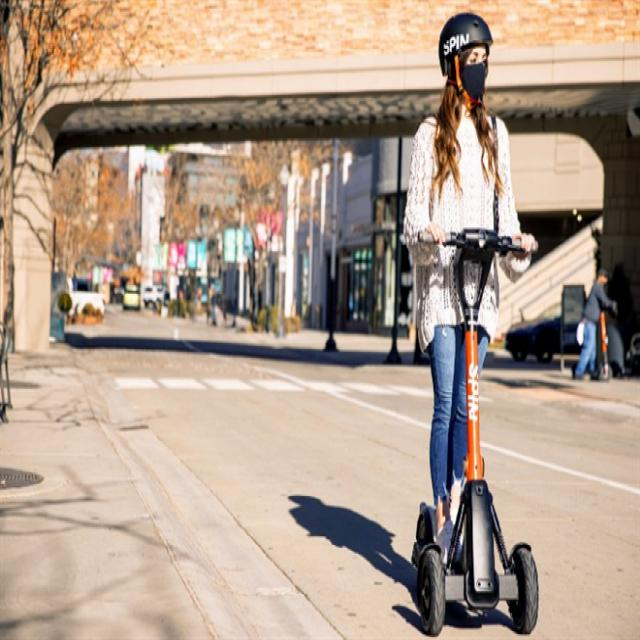helmet: (378, 13, 562, 640)
